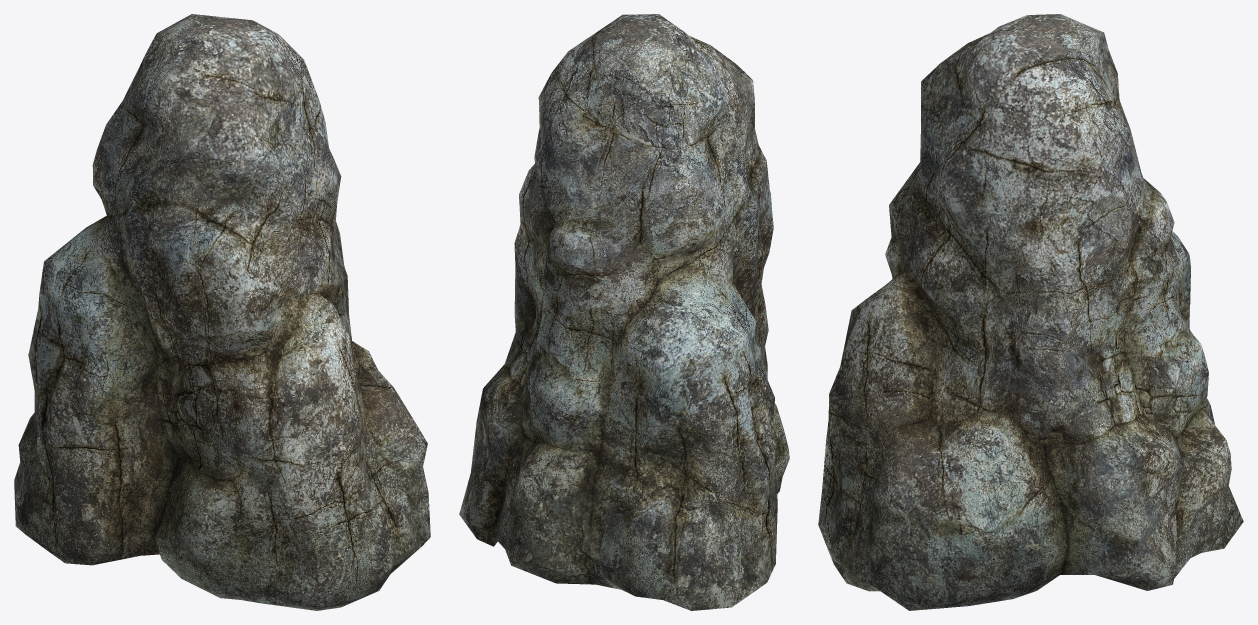
Rendered from Rock3.fbx.
3 views of the same model, side by side, from view 1: azimuth 30°, elevation 25°; view 2: azimuth 150°, elevation 25°; view 3: azimuth 270°, elevation 25° (orthographic). The views are drawn at different scales.
Visible parts, largest first — view 1: Rock3_1300_Group48927; view 2: Rock3_1300_Group48927; view 3: Rock3_1300_Group48927.
Part boxes in pixels (x1,y1,x2,y2): Rock3_1300_Group48927: (14,14,430,610); Rock3_1300_Group48927: (459,14,789,610); Rock3_1300_Group48927: (818,14,1243,610).
Bounding box in the file's own units: 4.17 × 6.64 × 4.77.
